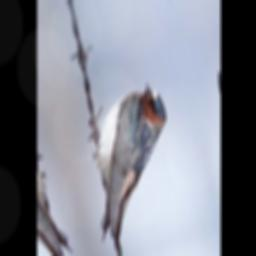Swallow: (71, 79, 191, 253)
